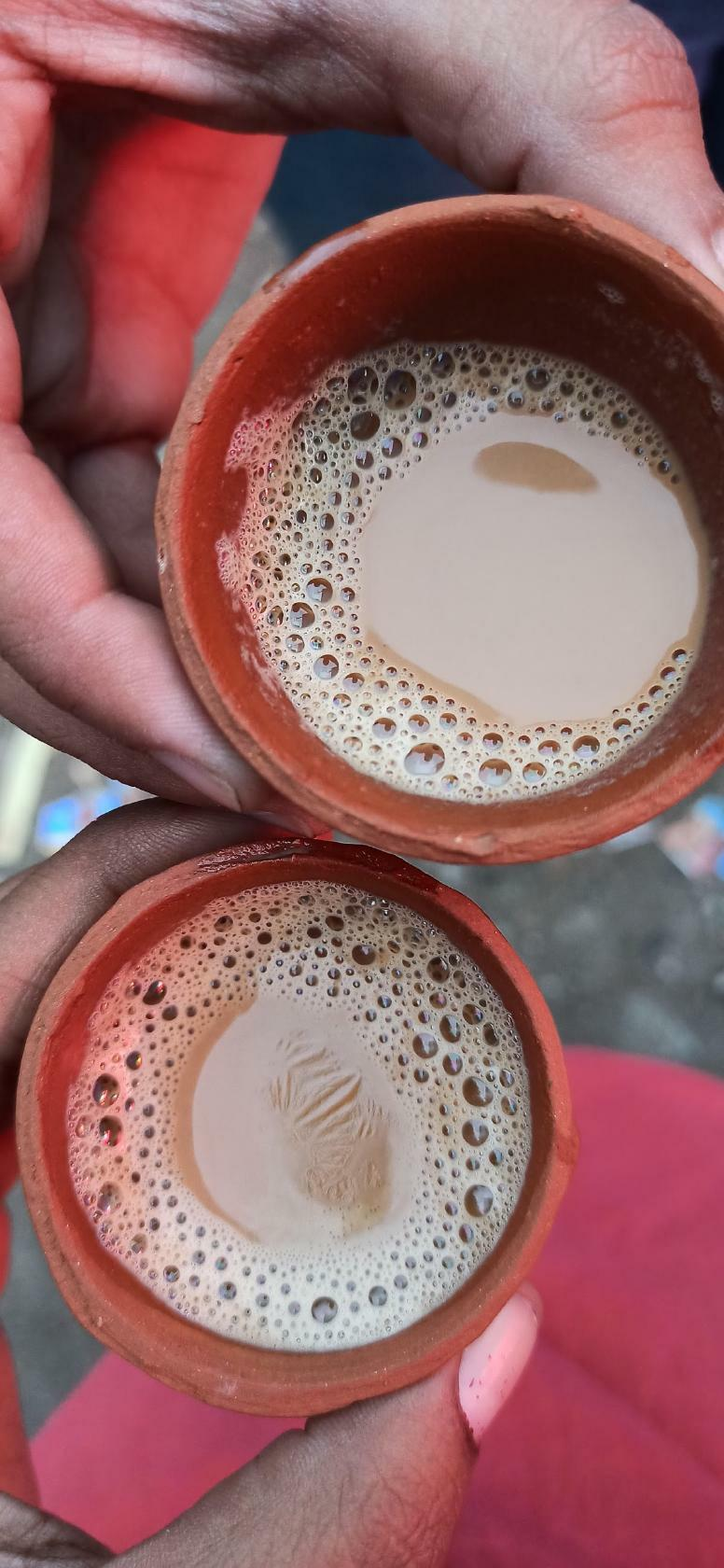Chai: (58, 885, 531, 1344), (235, 329, 688, 780)
